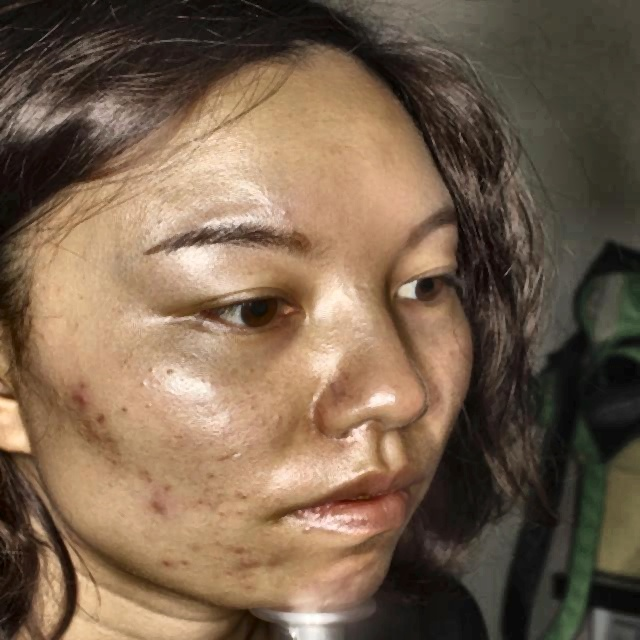pustule: (65, 393, 98, 408), (71, 373, 95, 391), (148, 496, 168, 514), (245, 558, 262, 578), (91, 408, 108, 426), (161, 557, 175, 577), (229, 542, 251, 554)
